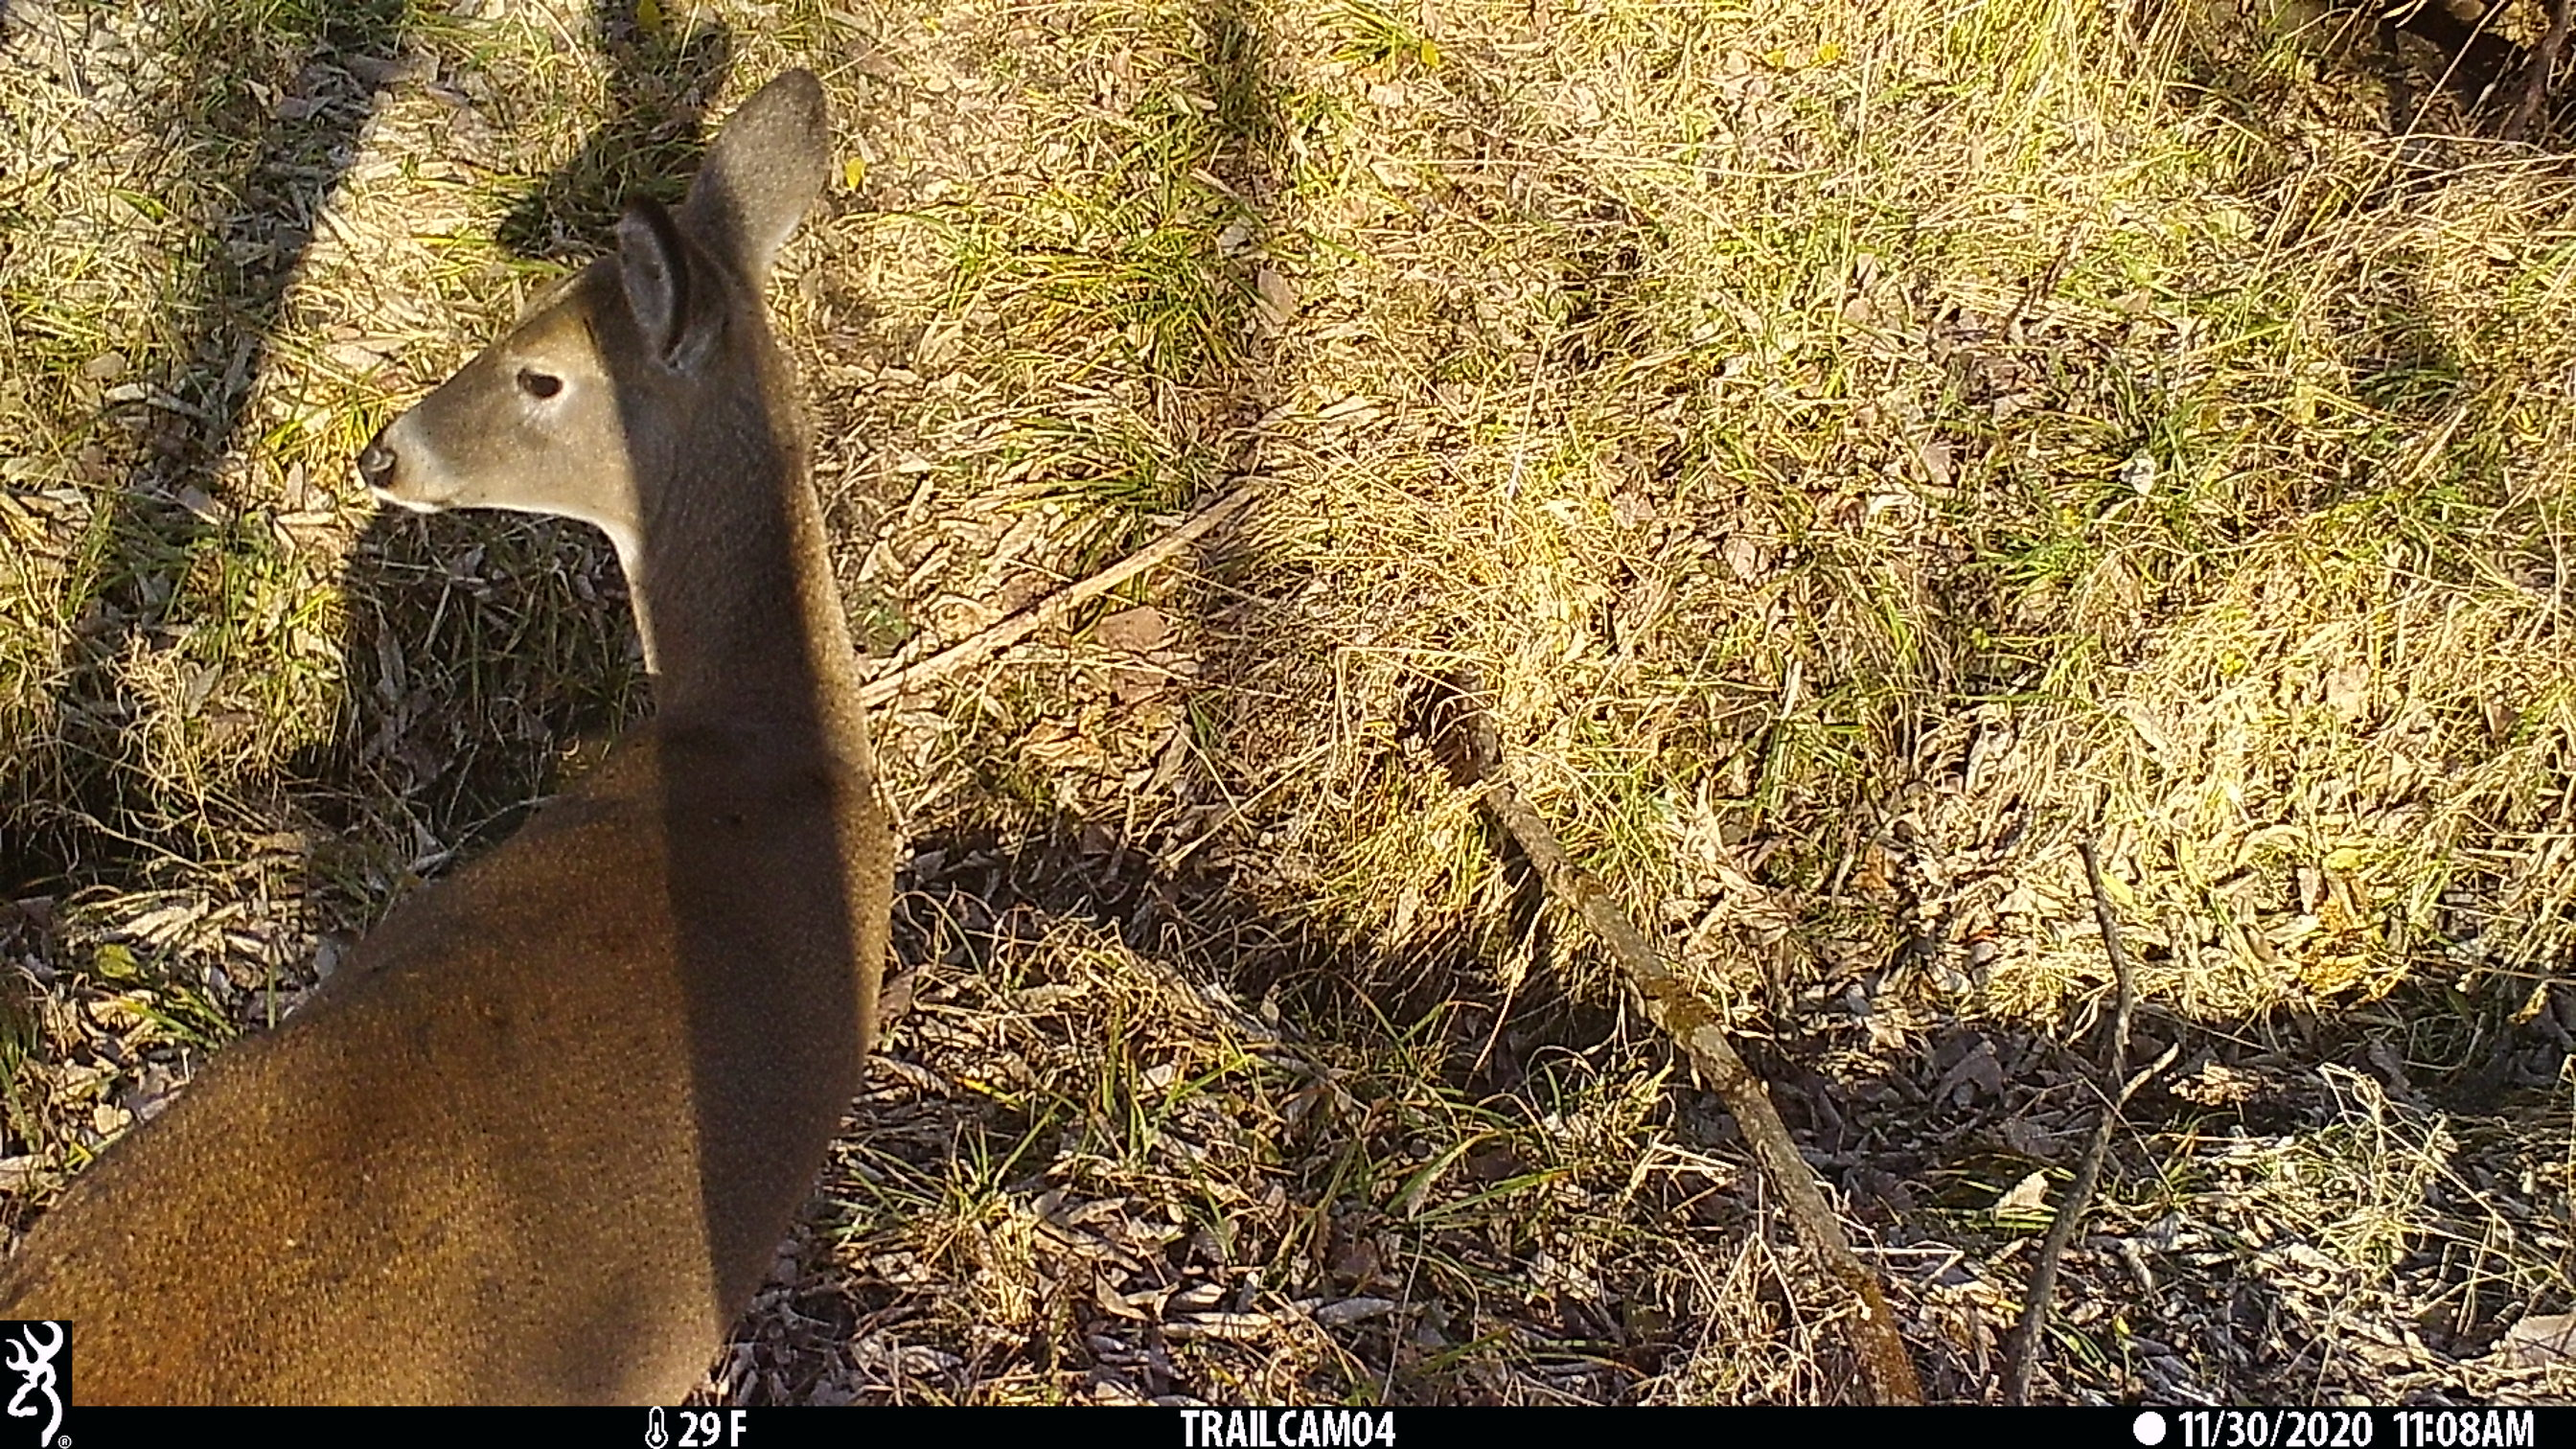DeerDoe: (2, 65, 897, 1405)
